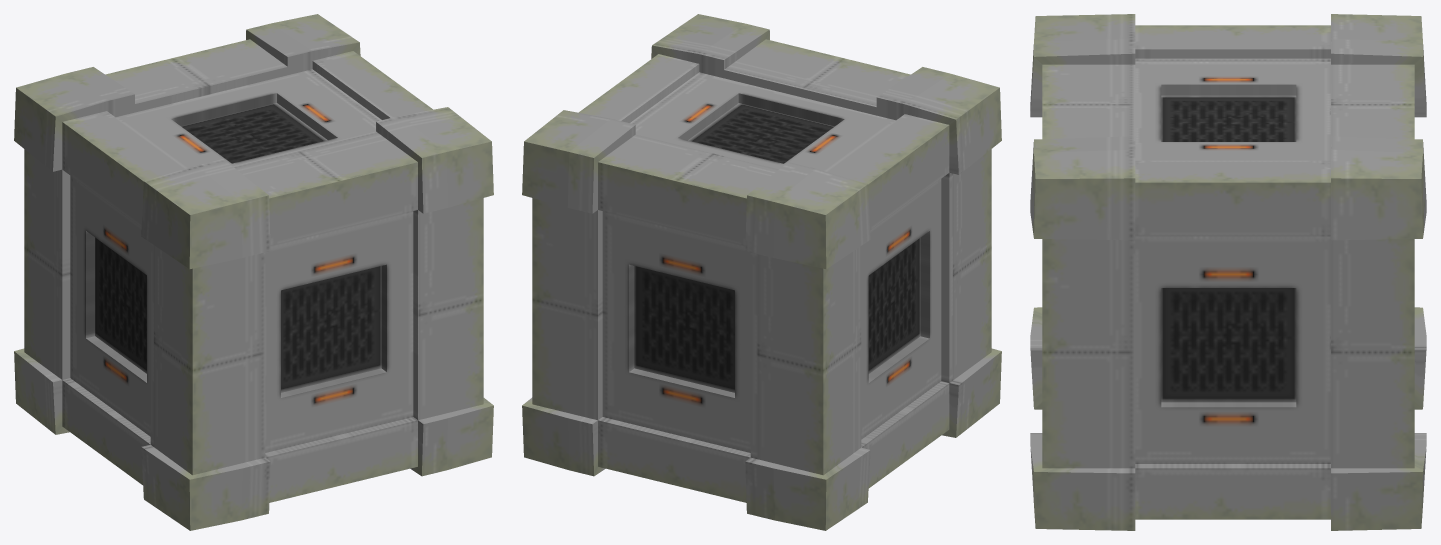
File: storagecube.obj
3 views of the same model, side by side, from view 1: azimuth 30°, elevation 25°; view 2: azimuth 150°, elevation 25°; view 3: azimuth 270°, elevation 25° (orthographic). The views are drawn at different scales.
Parts seen in each view (by area): view 1: Cube; view 2: Cube; view 3: Cube.
Part boxes in pixels (bbox=[...]): Cube: bbox=[14, 14, 493, 530]; Cube: bbox=[522, 14, 1001, 530]; Cube: bbox=[1030, 14, 1426, 530].
Size of the model in its own units: 2.13 by 2.13 by 2.13.
